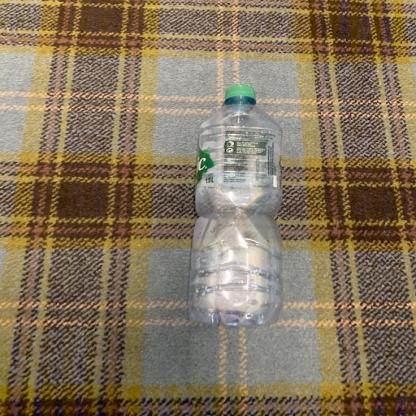trash: (188, 85, 282, 330)
